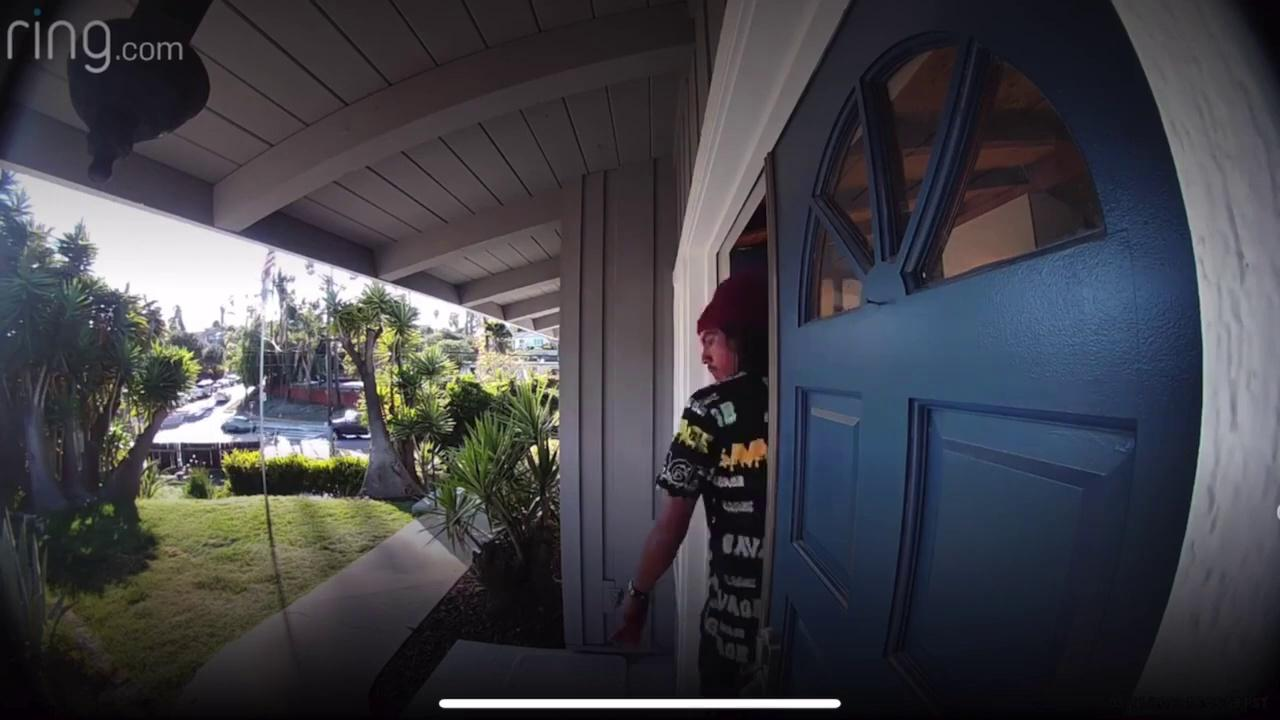suspicion: (608, 274, 818, 720)
